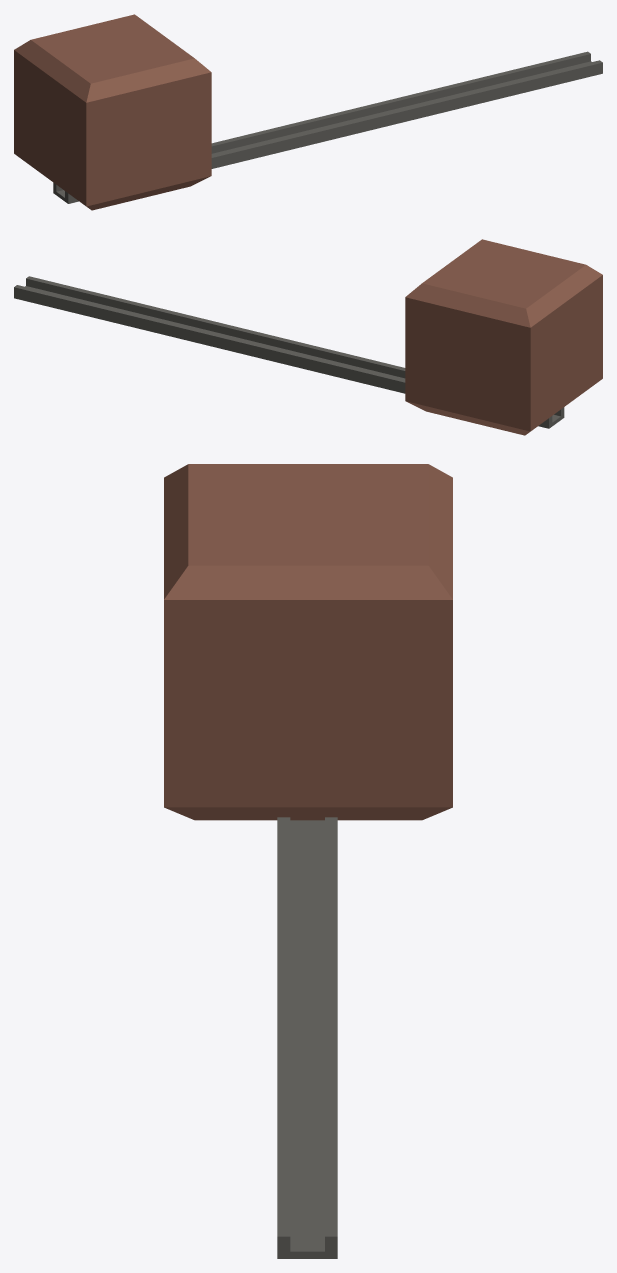
Rendered from ObstacleMovingCube.fbx.
3 renders of one model, top to bottom at view 1: azimuth 30°, elevation 25°; view 2: azimuth 150°, elevation 25°; view 3: azimuth 270°, elevation 25°, orthographic. The views are drawn at different scales.
Visible parts, largest first — view 1: Cube, Rail; view 2: Cube, Rail; view 3: Cube, Rail.
Part boxes in pixels (left/top/right/bottom): Cube: left=14, top=14, right=211, bottom=210; Rail: left=53, top=51, right=602, bottom=203; Cube: left=405, top=239, right=602, bottom=435; Rail: left=14, top=276, right=564, bottom=428; Cube: left=164, top=464, right=452, bottom=820; Rail: left=277, top=817, right=337, bottom=1258.
Bounding box in the file's own units: 633 × 152 × 146.
